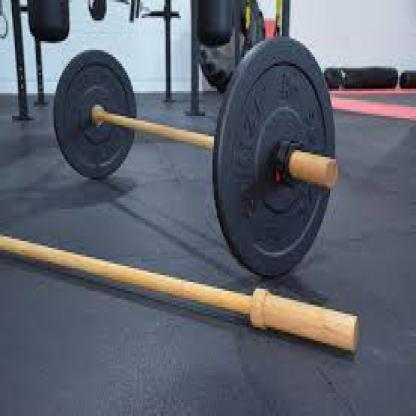barbell: (56, 38, 338, 279)
